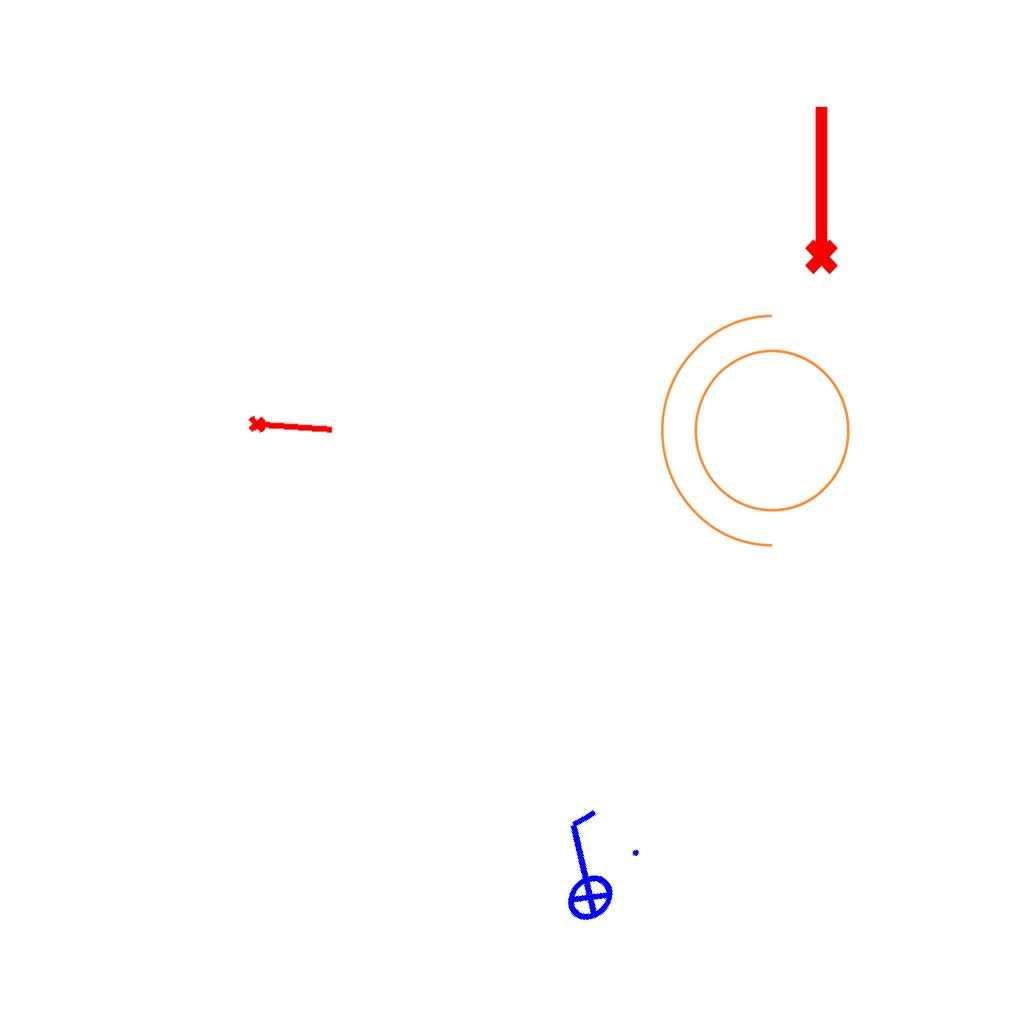ASR_Ansaugoeffnung: (796, 101, 842, 277), (246, 410, 336, 441)
Ausschalter_beleuchtet: (510, 793, 658, 941)
Scheinwerfer_fuer_Alarmbeleuchtung: (650, 305, 875, 569)
